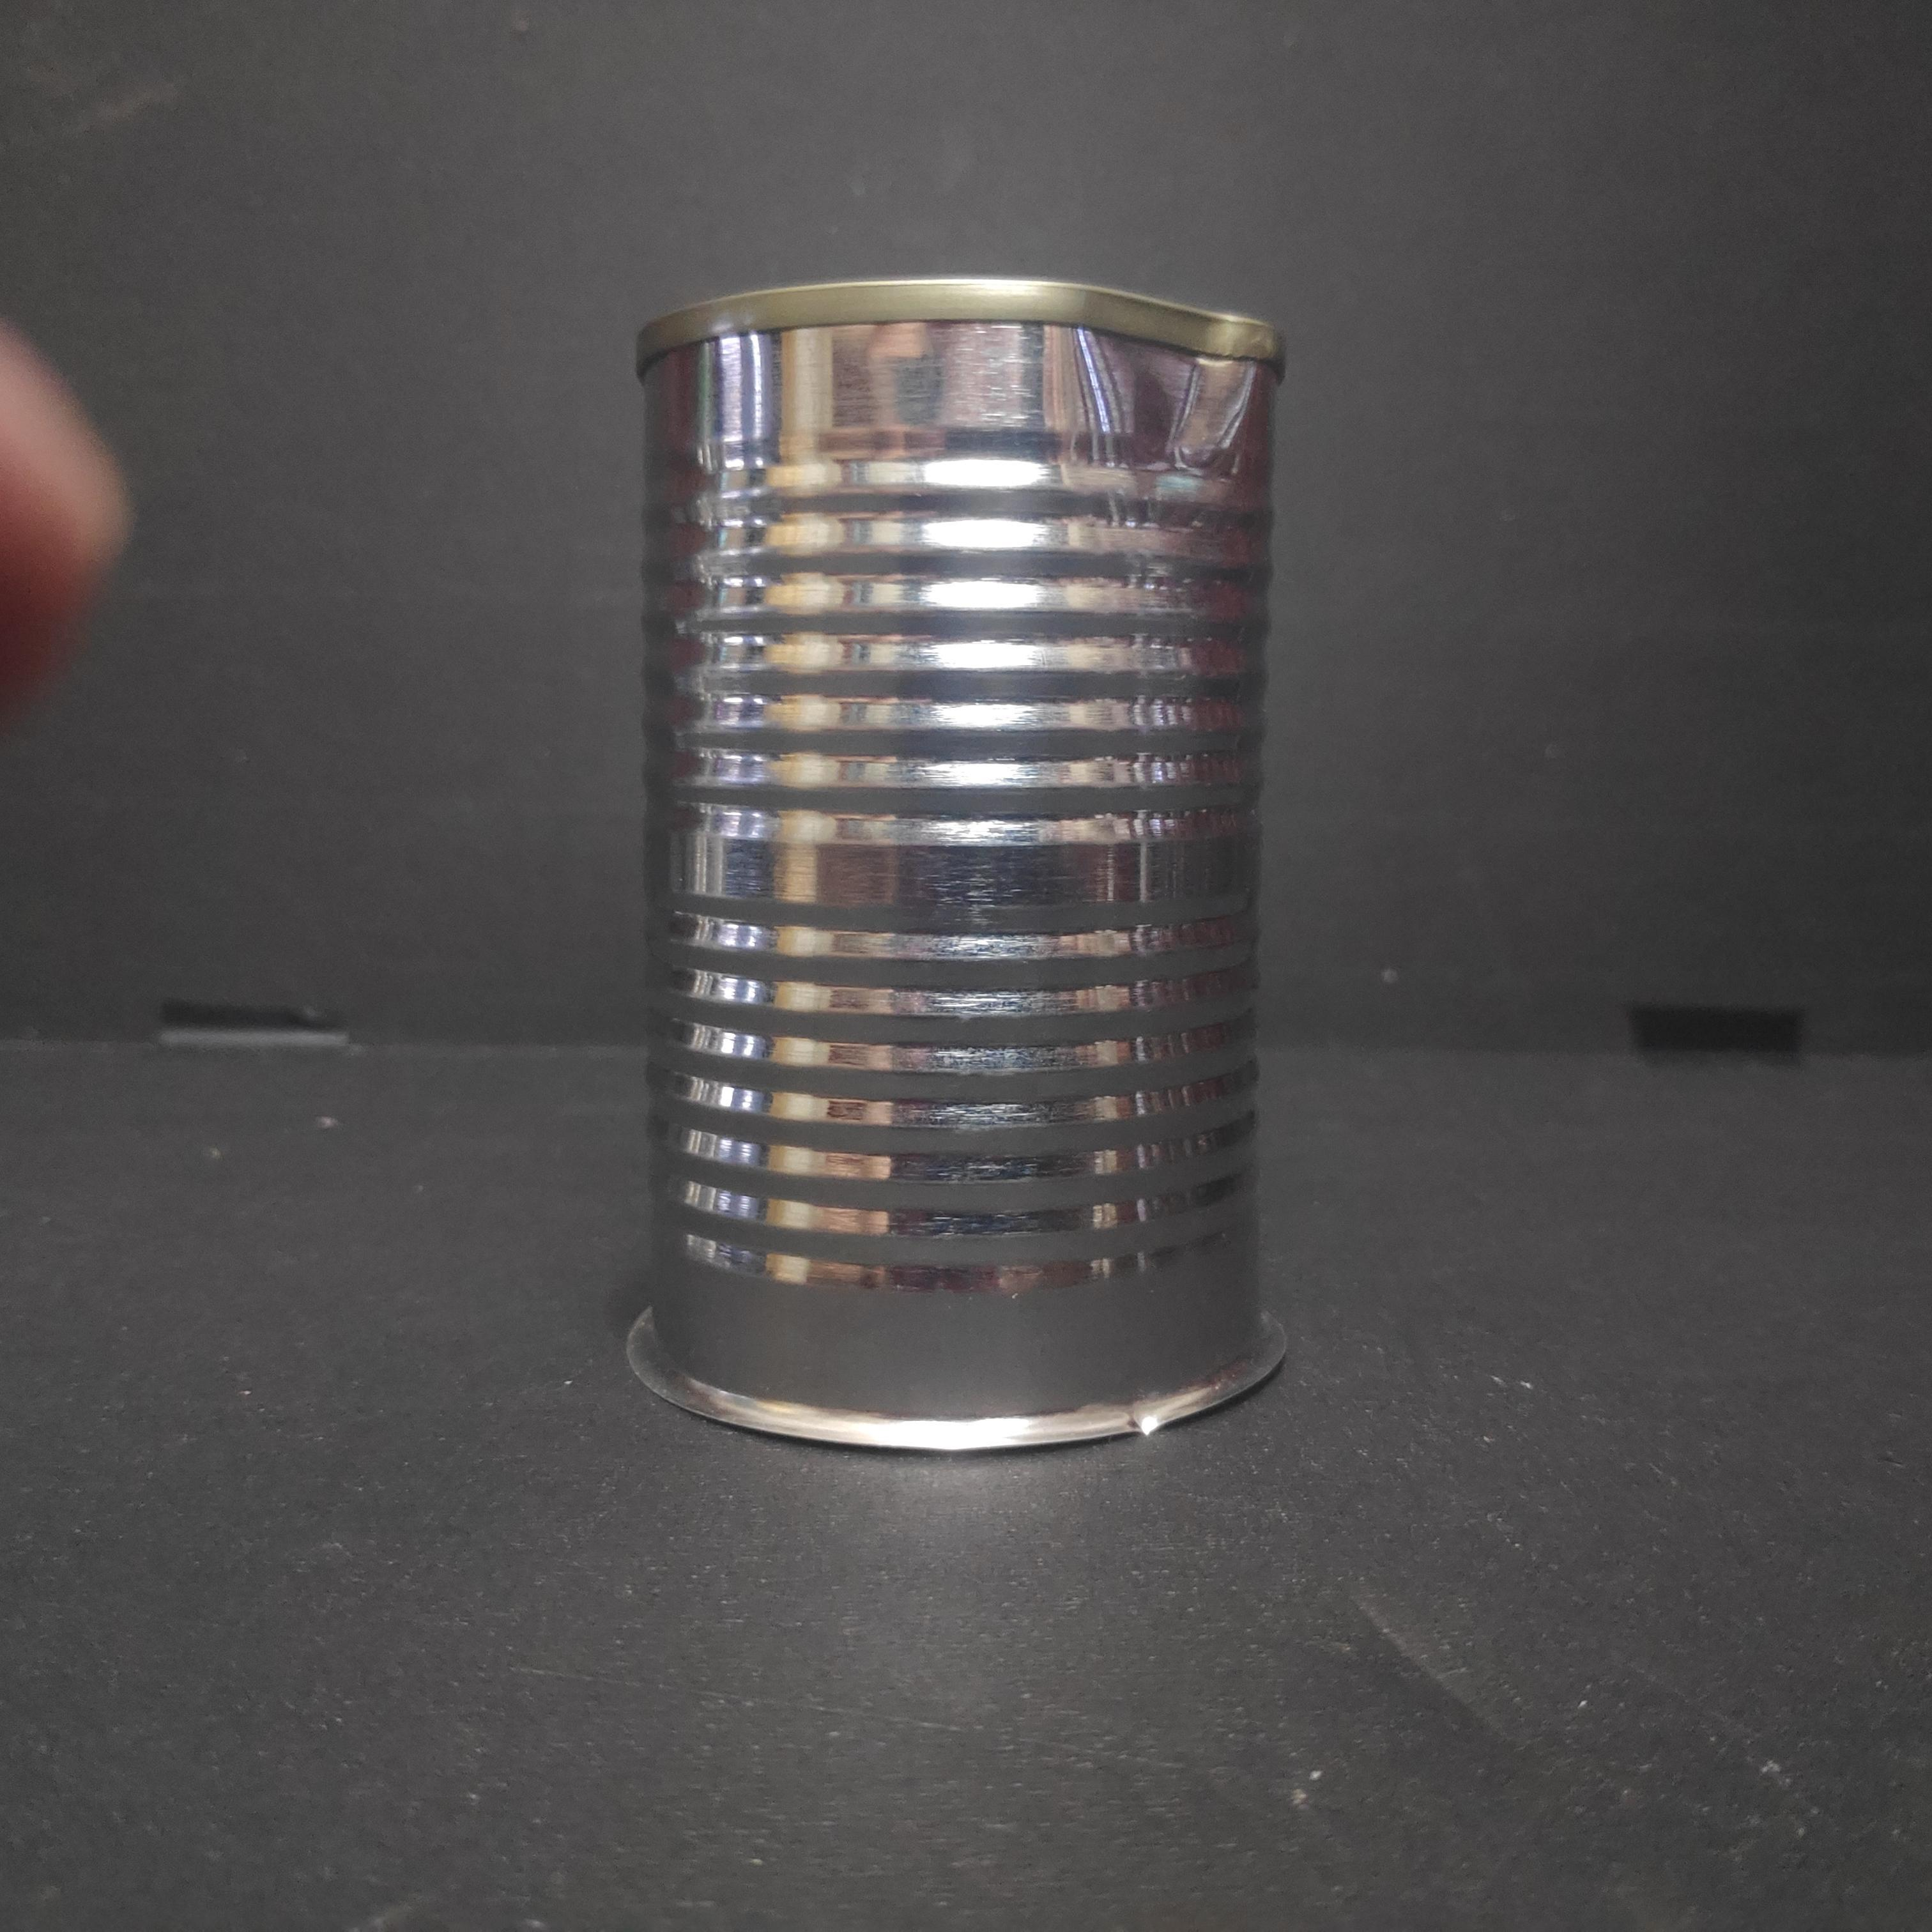Dented: (614, 249, 1320, 1463)
